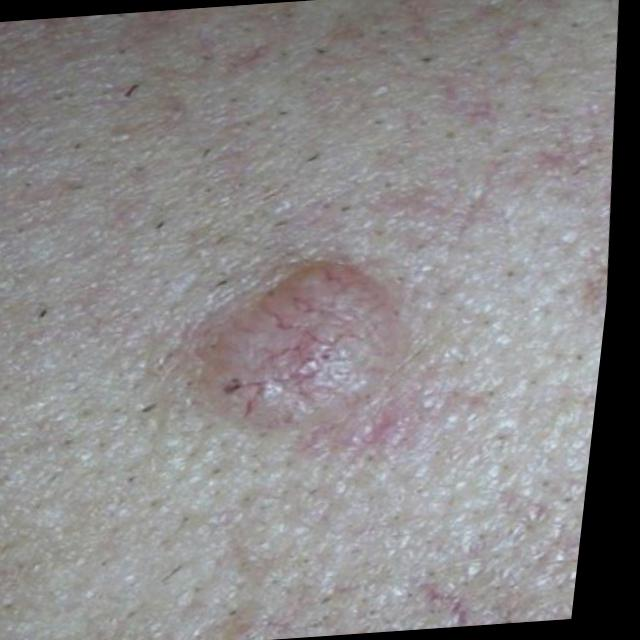nodule: (153, 248, 442, 447)
